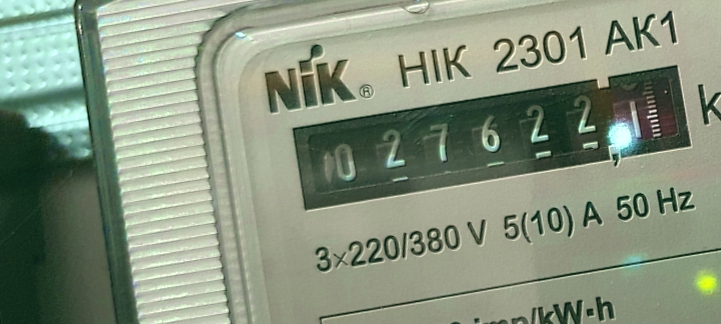0: (330, 139, 360, 184)
1: (624, 96, 646, 141)
2: (522, 101, 552, 145), (379, 126, 408, 171), (571, 91, 599, 136)
6: (476, 111, 503, 155)
7: (427, 120, 456, 166)
screen: (278, 53, 706, 219)
